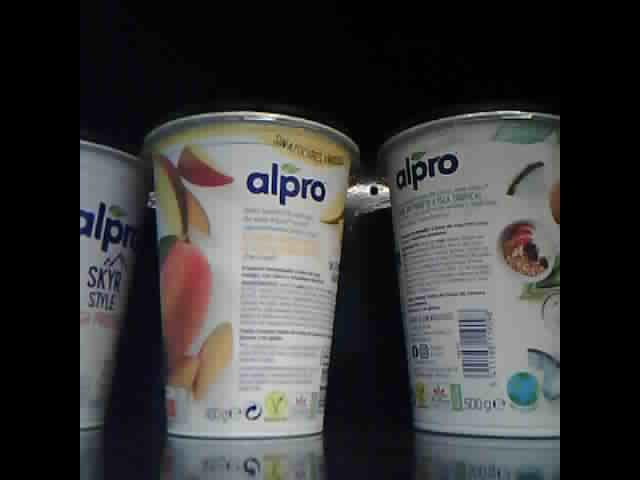alpro: (142, 100, 361, 440), (377, 105, 560, 442), (80, 129, 151, 429)
